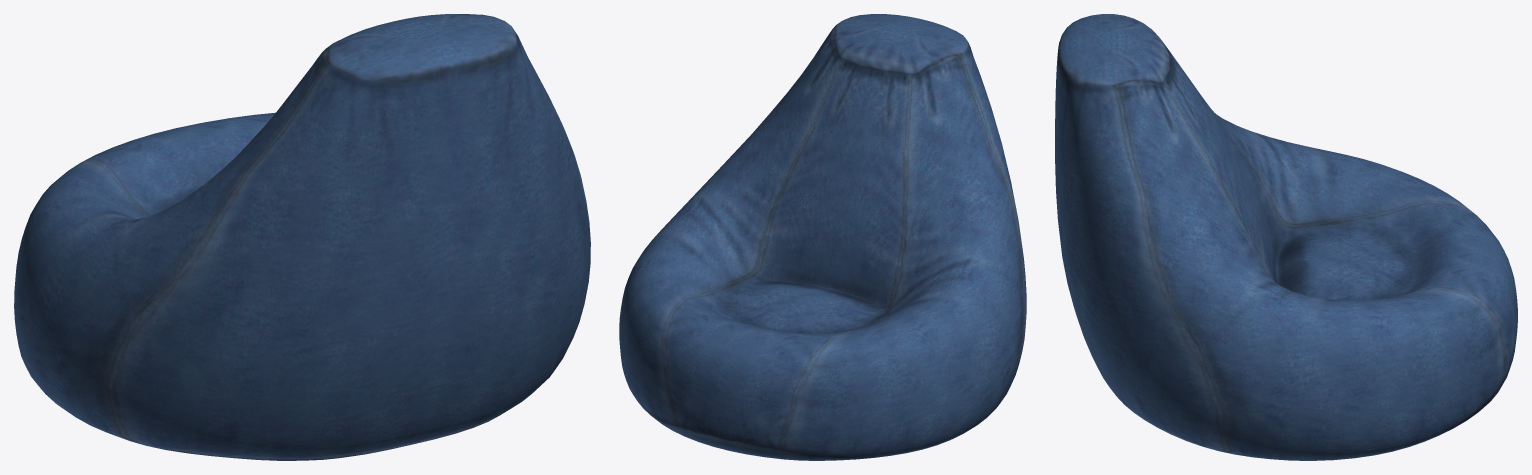
The model's file is officechair3.glb.
3 views of the same model, side by side, from view 1: azimuth 30°, elevation 25°; view 2: azimuth 150°, elevation 25°; view 3: azimuth 270°, elevation 25° (orthographic). The views are drawn at different scales.
Parts seen in each view (by area): view 1: cushions; view 2: cushions; view 3: cushions.
Part boxes in pixels (x1,y1,x2,y2): cushions: (14,14,590,460); cushions: (619,14,1026,460); cushions: (1055,14,1517,460).
Size of the model in its own units: 1.39 by 1.13 by 1.39.
1 material, 1 textured.
